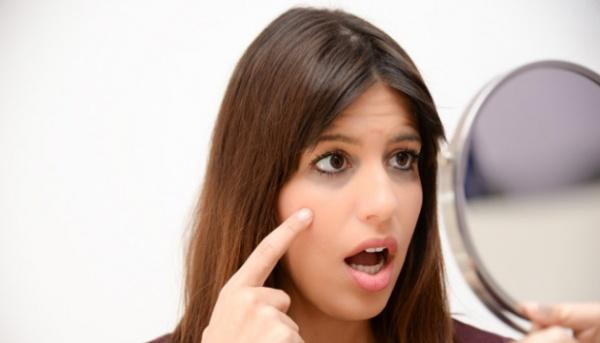Eyebags: (306, 153, 361, 191), (381, 150, 420, 185)
